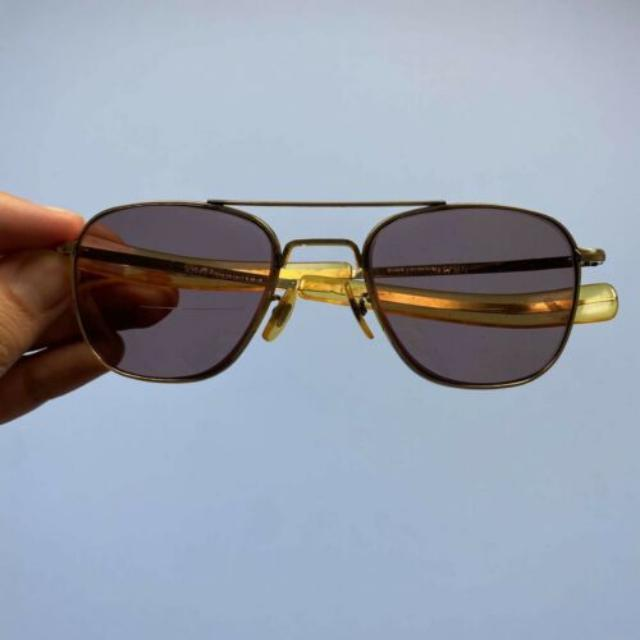sunglasses: (49, 196, 618, 392)
